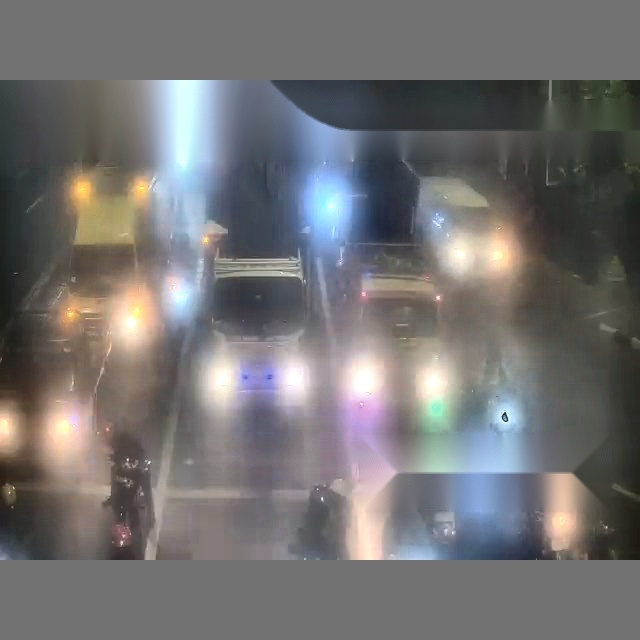Motor: (0, 398, 32, 464)
